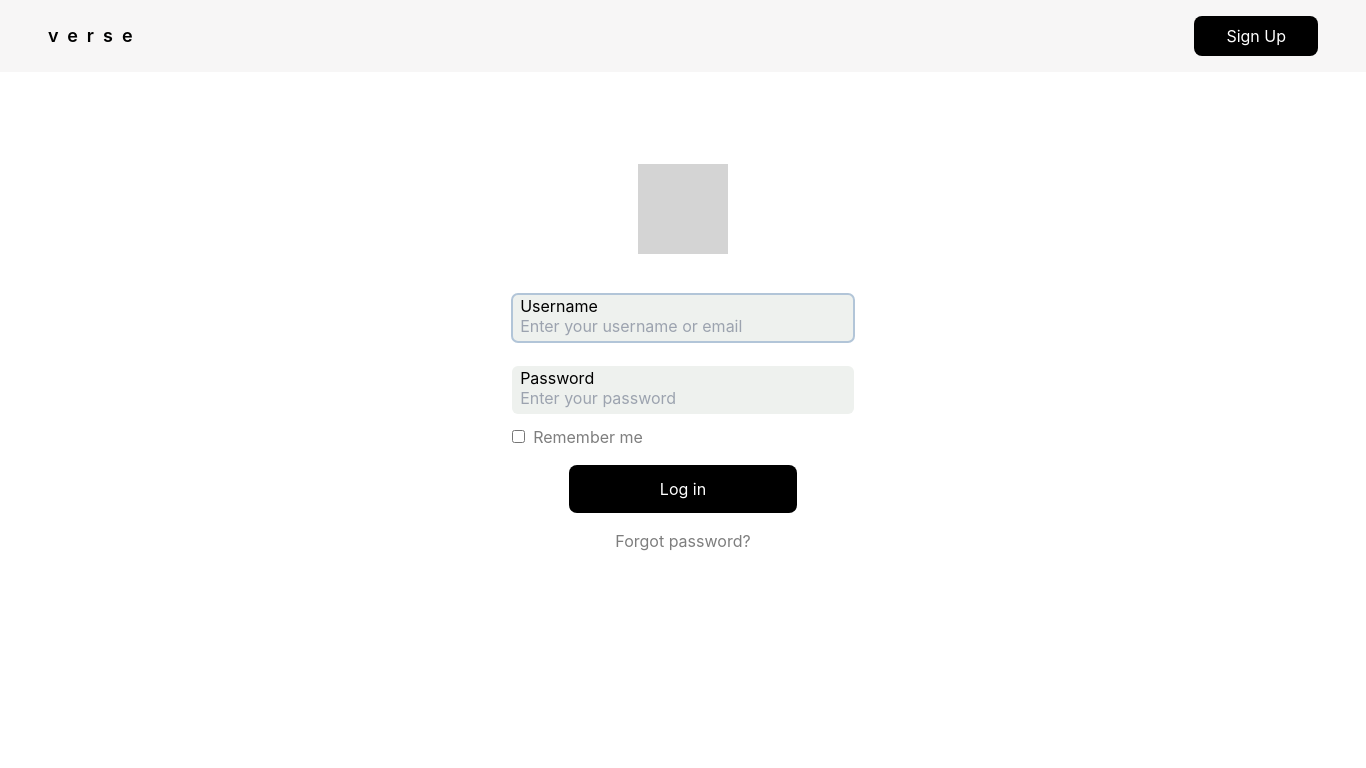
Test: Login › displays the error message when only password is empty
The image size is (1366, 768).
Type "username test" into the field with test id "username". click: (683, 318)
box: top-left (512, 294), bottom-right (854, 342)
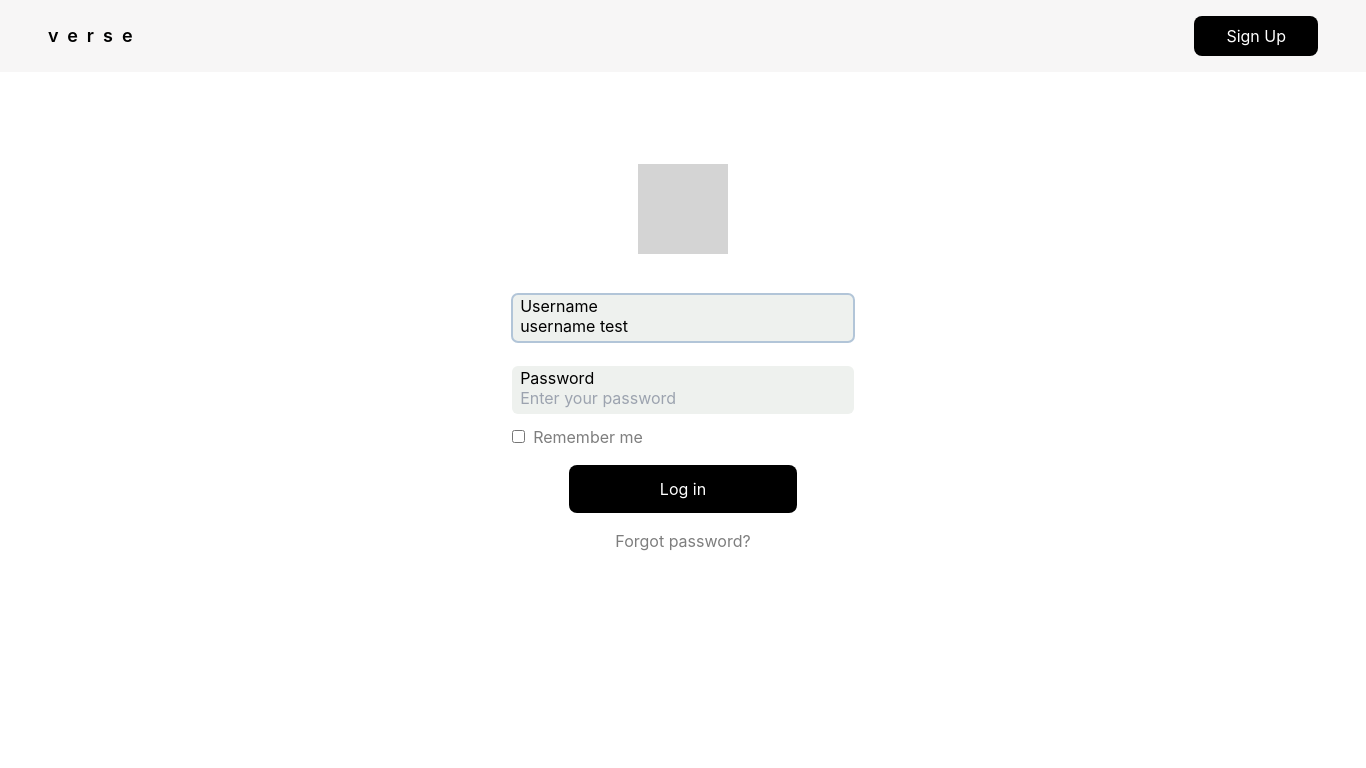
Click the button with test id "login-button". click: (683, 489)
box: top-left (569, 465), bottom-right (797, 513)
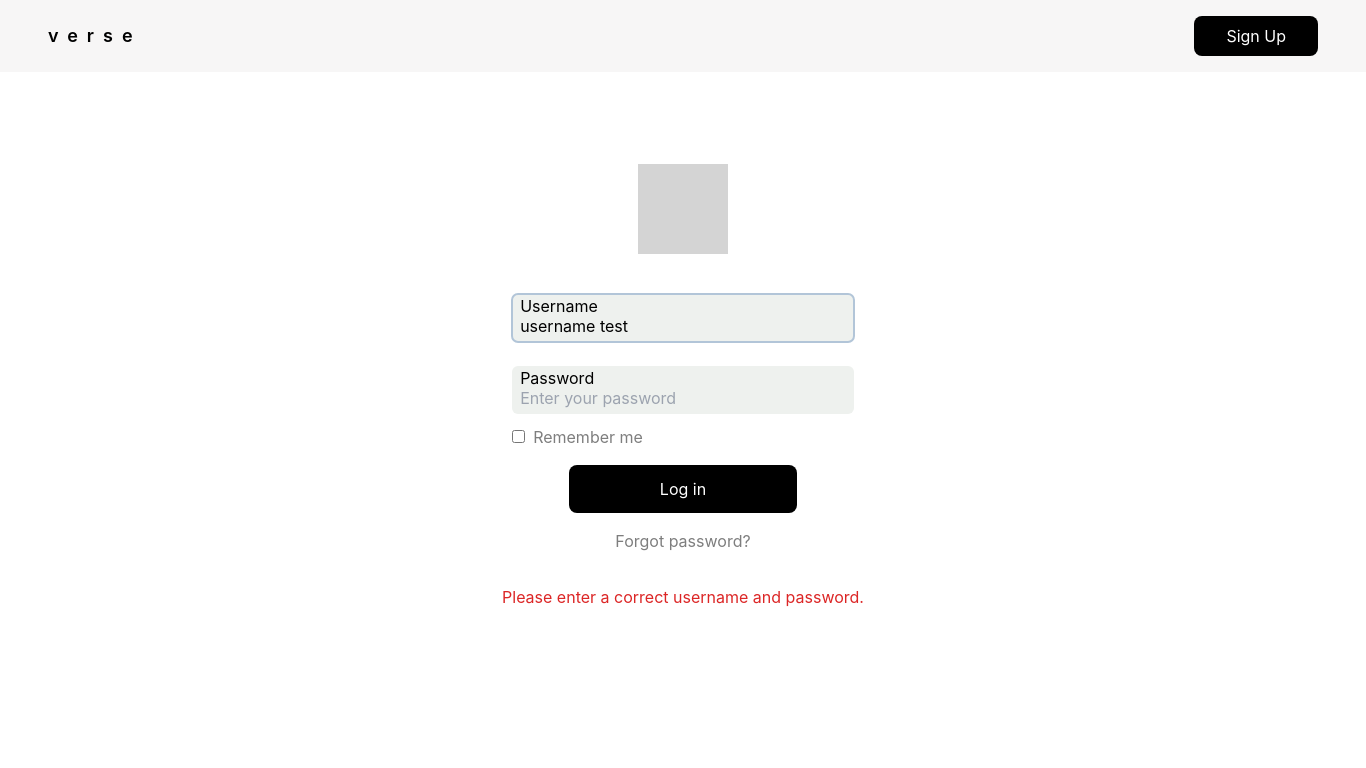
Check: the text "Please enter a correct username and password." is shown, box top-left (502, 585), bottom-right (864, 609)
